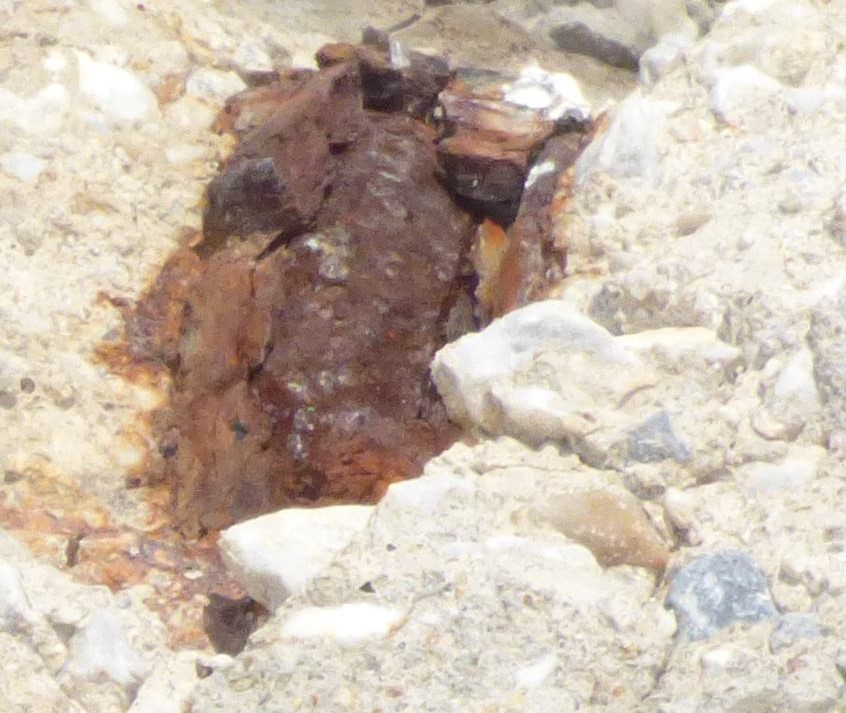Corrosion: (1, 44, 612, 657)
